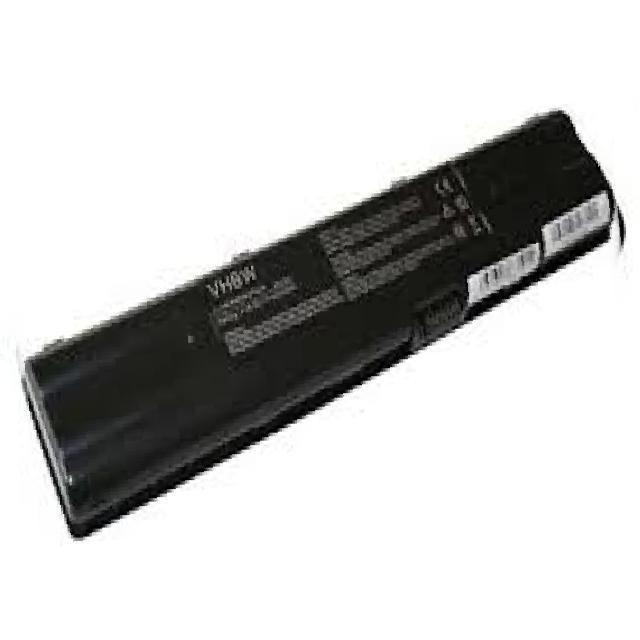Battery: (16, 100, 640, 552)
